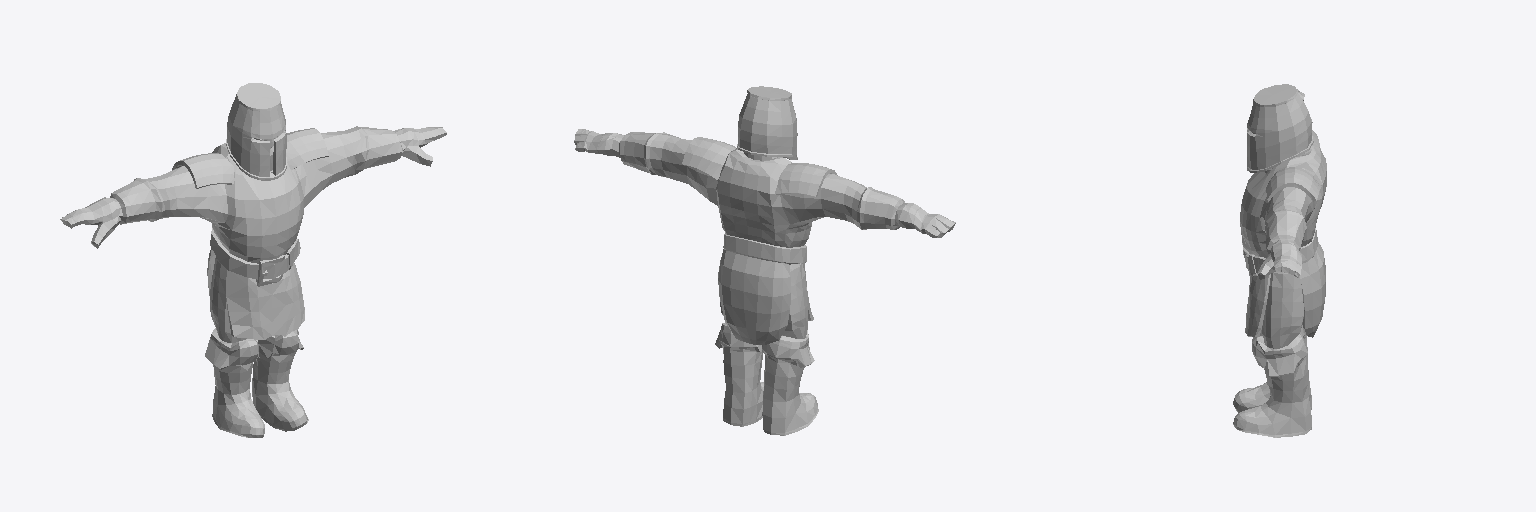
Rendered from weaponshop.obj.
3 renders of one model, left to right at view 1: azimuth 30°, elevation 25°; view 2: azimuth 150°, elevation 25°; view 3: azimuth 270°, elevation 25°, orthographic.
Parts seen in each view (by area): view 1: Mesh_0; view 2: Mesh_0; view 3: Mesh_0.
Part boxes in pixels (bbox=[...]): Mesh_0: bbox=[60, 83, 446, 437]; Mesh_0: bbox=[574, 86, 955, 435]; Mesh_0: bbox=[1233, 84, 1326, 437].
Size of the model in its own units: 254 by 213 by 54.52.